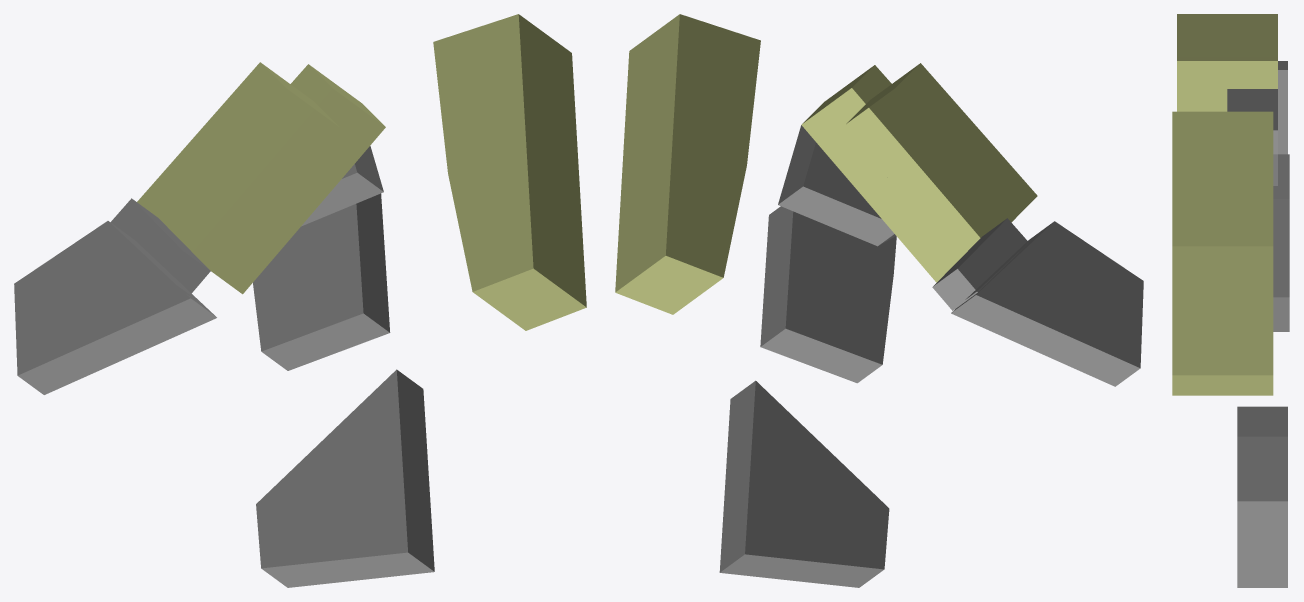
3 views of the same model, side by side, from view 1: azimuth 30°, elevation 25°; view 2: azimuth 150°, elevation 25°; view 3: azimuth 270°, elevation 25° (orthographic). The views are drawn at different scales.
Visible parts, largest first — view 1: 0_1_2_0_0_2_3_1_2; view 2: 0_1_2_0_0_2_3_1_2; view 3: 0_1_2_0_0_2_3_1_2.
Part boxes in pixels (left/top/right/bottom): 0_1_2_0_0_2_3_1_2: left=14, top=14, right=586, bottom=587; 0_1_2_0_0_2_3_1_2: left=615, top=14, right=1143, bottom=587; 0_1_2_0_0_2_3_1_2: left=1172, top=14, right=1289, bottom=587.
Size of the model in its own units: 34.1 by 33.01 by 6.96.
